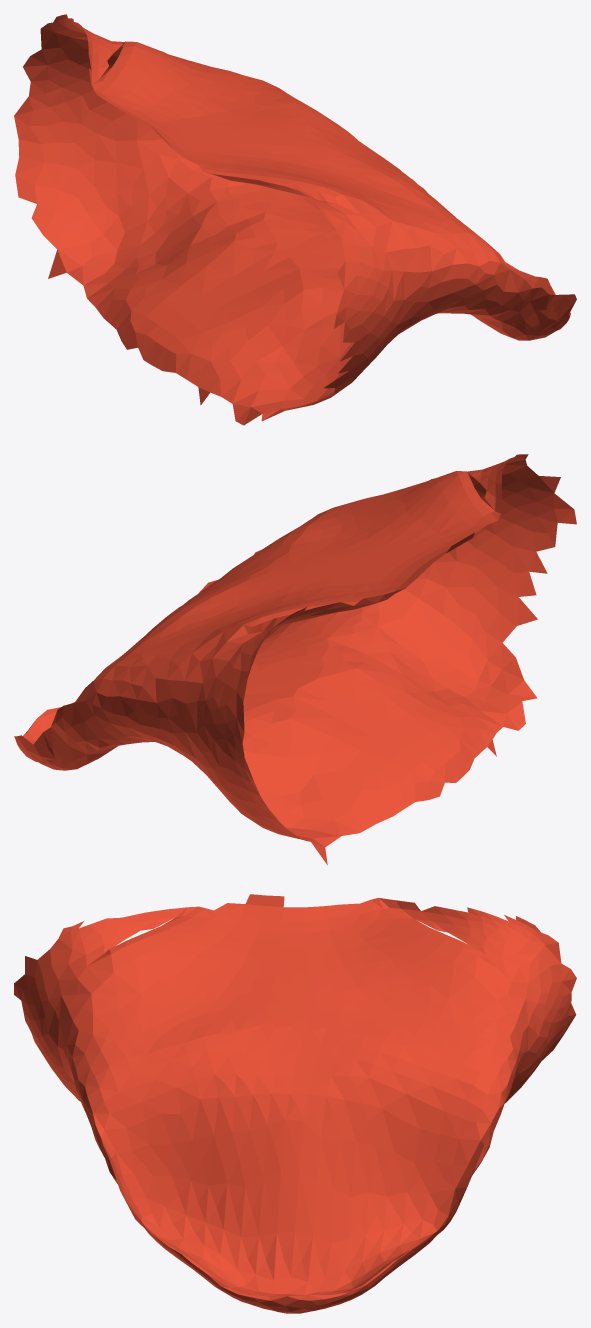
File: tongue.fbx
3 renders of one model, top to bottom at view 1: azimuth 30°, elevation 25°; view 2: azimuth 150°, elevation 25°; view 3: azimuth 270°, elevation 25°, orthographic. The views are drawn at different scales.
Visible parts, largest first — view 1: tongue; view 2: tongue; view 3: tongue.
Part boxes in pixels (<box>): tongue: <box>14,14,576,425</box>; tongue: <box>14,454,576,864</box>; tongue: <box>14,894,576,1313</box>.
Size of the model in its own units: 29.8 by 20.62 by 40.54.
